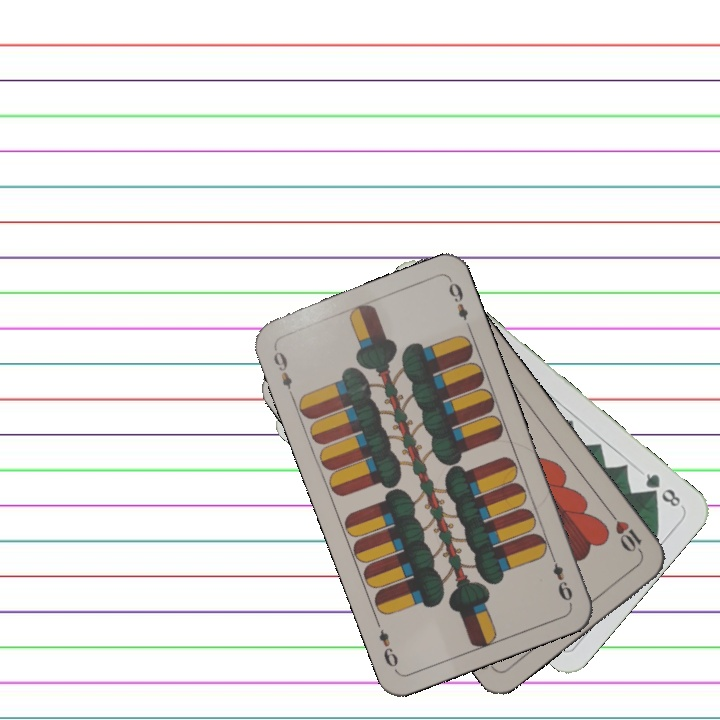E9: (546, 549, 576, 606), (269, 343, 297, 401)
G8: (641, 469, 684, 510)
H10: (605, 507, 646, 558)
